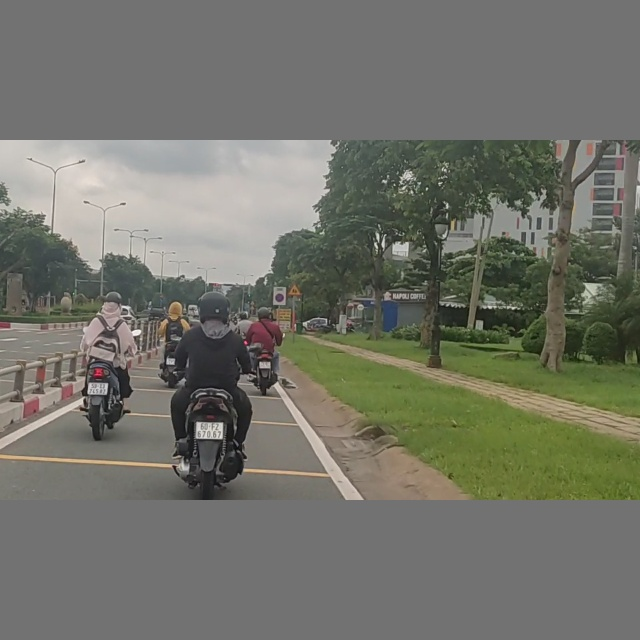P.130: (275, 293, 284, 302)
W.225: (288, 283, 301, 296)
